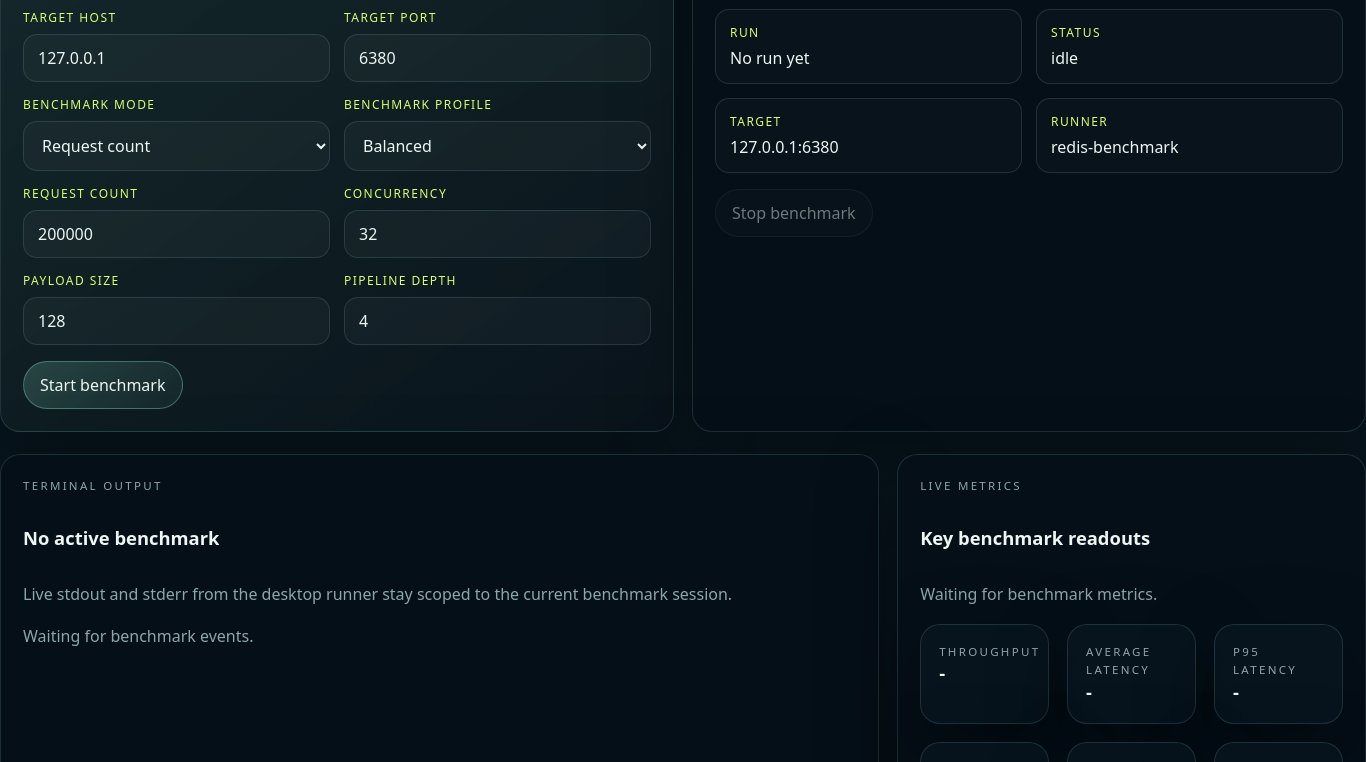
Test case: benchmarks page › surfaces refresh errors when lifecycle detail reload fails
(page scrolled)
Click the button "Start benchmark".
click(103, 385)  # box [23,361,182,409]
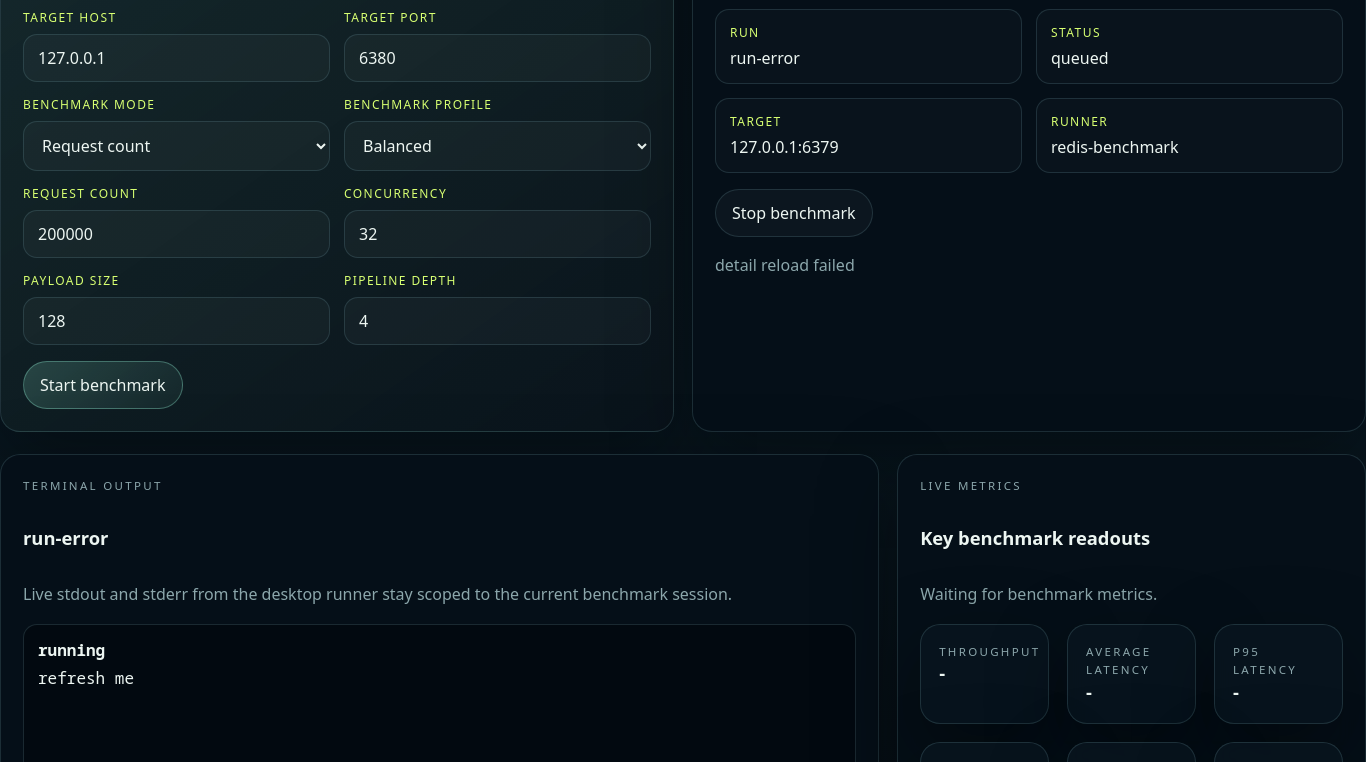
Expected: the text "detail reload failed" is shown, [715,254,855,276]
